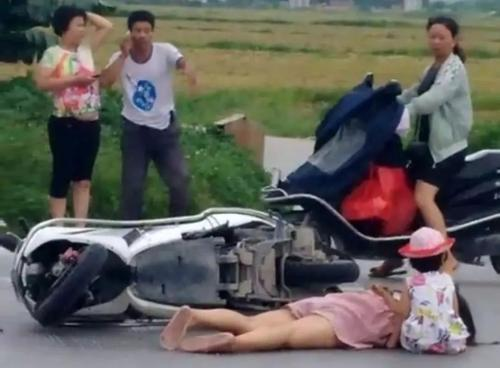Fall-Detected: (162, 272, 434, 355)
